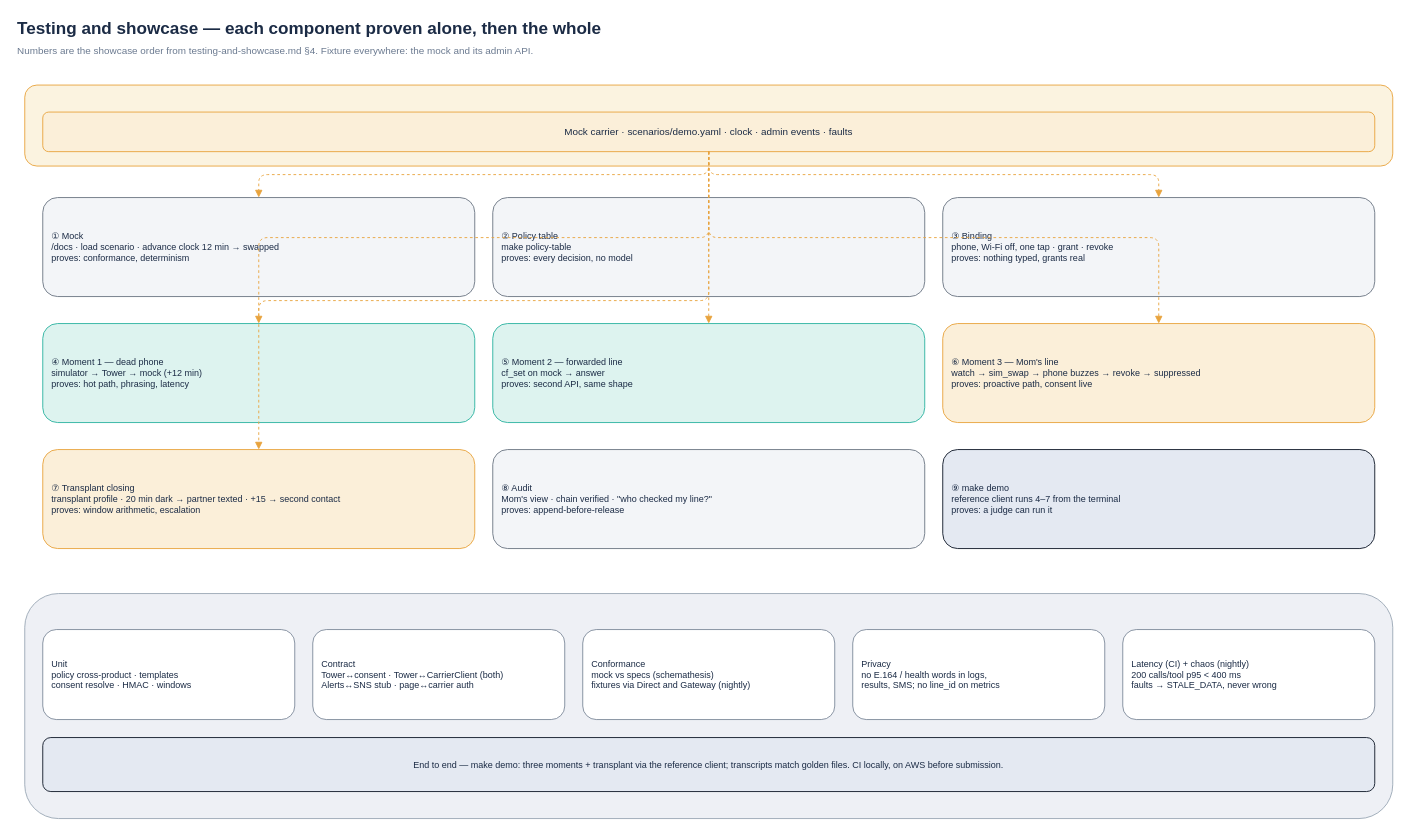
This 1417x834 diagram has some shape labels left out. Each missing label, with the box of its shape:
Fixture: (24, 84, 1393, 166)
Test layers (CI unless noted): (24, 593, 1393, 819)
